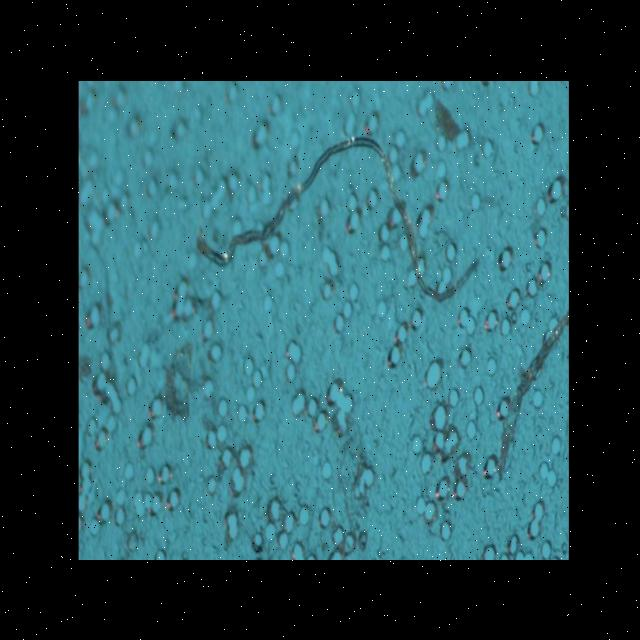Fibre: (195, 132, 480, 304)
